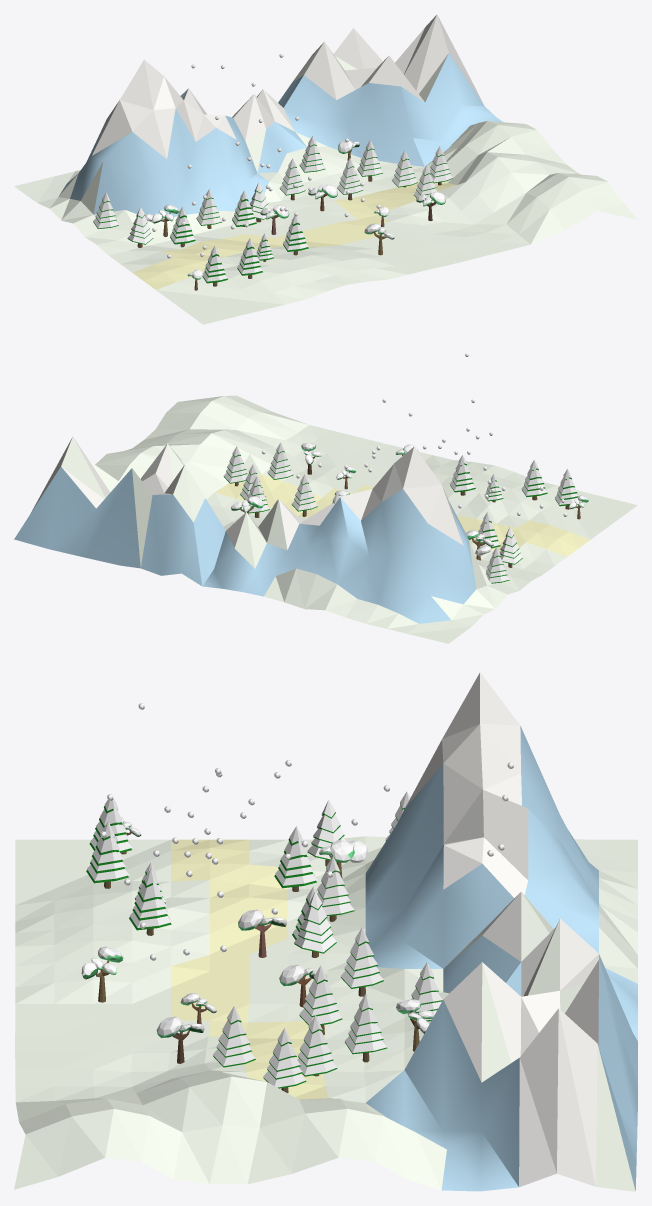
File: landscape.glb
3 renders of one model, top to bottom at view 1: azimuth 30°, elevation 25°; view 2: azimuth 150°, elevation 25°; view 3: azimuth 270°, elevation 25°, orthographic. The views are drawn at different scales.
Visible parts, largest first — view 1: Plane, Cylinder.026, Cylinder.032, Cylinder.020, Cylinder.009, Cylinder.049, Cylinder.043, Cylinder.003, Cylinder.027, Cylinder.052, Cylinder.014, Cylinder.023 (+2 smaller); view 2: Plane, Cylinder.046, Cylinder.043, Cylinder.052, Cylinder.020, Cylinder.032, Cylinder.017, Cylinder.014, Cylinder.023; view 3: Plane, Cylinder.026, Cylinder.003, Cylinder.046, Cylinder.052, Cylinder.006, Cylinder.049, Cylinder.043, Cylinder.017, Cylinder.035, Cylinder.014, Cylinder.027 (+3 smaller).
Boxes of the visible parts, <box> form: Plane: <box>14,14,637,324</box>; Cylinder.026: <box>357,140,383,175</box>; Cylinder.032: <box>93,192,118,228</box>; Cylinder.020: <box>128,207,153,243</box>; Cylinder.009: <box>299,136,325,171</box>; Cylinder.049: <box>392,150,417,186</box>; Cylinder.043: <box>337,158,362,194</box>; Cylinder.003: <box>280,158,305,194</box>; Cylinder.027: <box>196,189,222,224</box>; Cylinder.052: <box>429,146,452,182</box>; Cylinder.014: <box>237,238,262,273</box>; Cylinder.023: <box>203,246,227,281</box>; Plane: <box>14,395,637,643</box>; Cylinder.046: <box>268,442,293,478</box>; Cylinder.043: <box>292,474,317,510</box>; Cylinder.052: <box>224,446,247,482</box>; Cylinder.020: <box>499,527,522,563</box>; Cylinder.032: <box>485,547,509,582</box>; Cylinder.017: <box>449,455,475,490</box>; Cylinder.014: <box>521,460,546,495</box>; Cylinder.023: <box>554,469,580,504</box>; Plane: <box>14,672,637,1191</box>; Cylinder.026: <box>345,993,387,1052</box>; Cylinder.003: <box>340,927,383,987</box>; Cylinder.046: <box>212,1006,255,1066</box>; Cylinder.052: <box>263,1028,305,1087</box>; Cylinder.006: <box>294,891,336,952</box>; Cylinder.049: <box>297,1015,336,1075</box>; Cylinder.043: <box>299,965,342,1024</box>; Cylinder.017: <box>130,868,171,927</box>; Cylinder.035: <box>275,826,317,885</box>; Cylinder.014: <box>87,821,129,880</box>; Cylinder.027: <box>317,856,354,914</box>.
Bounding box in the file's own units: 57.3 × 19.5 × 43.1.
